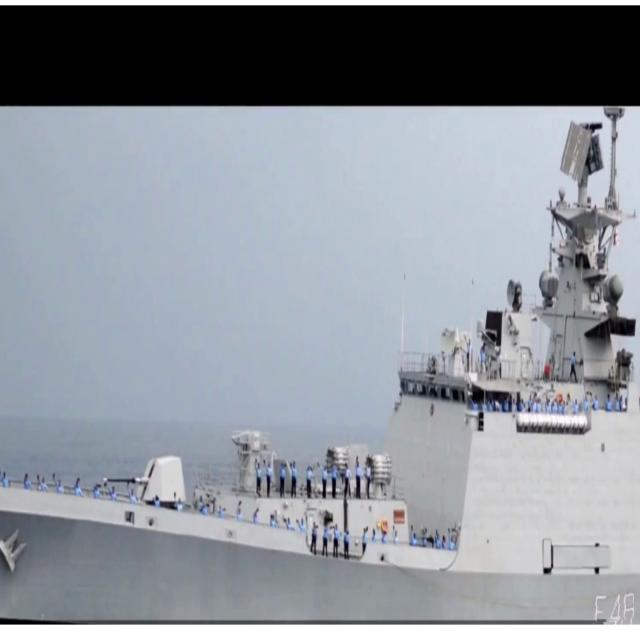OCR: (588, 586, 634, 623)
